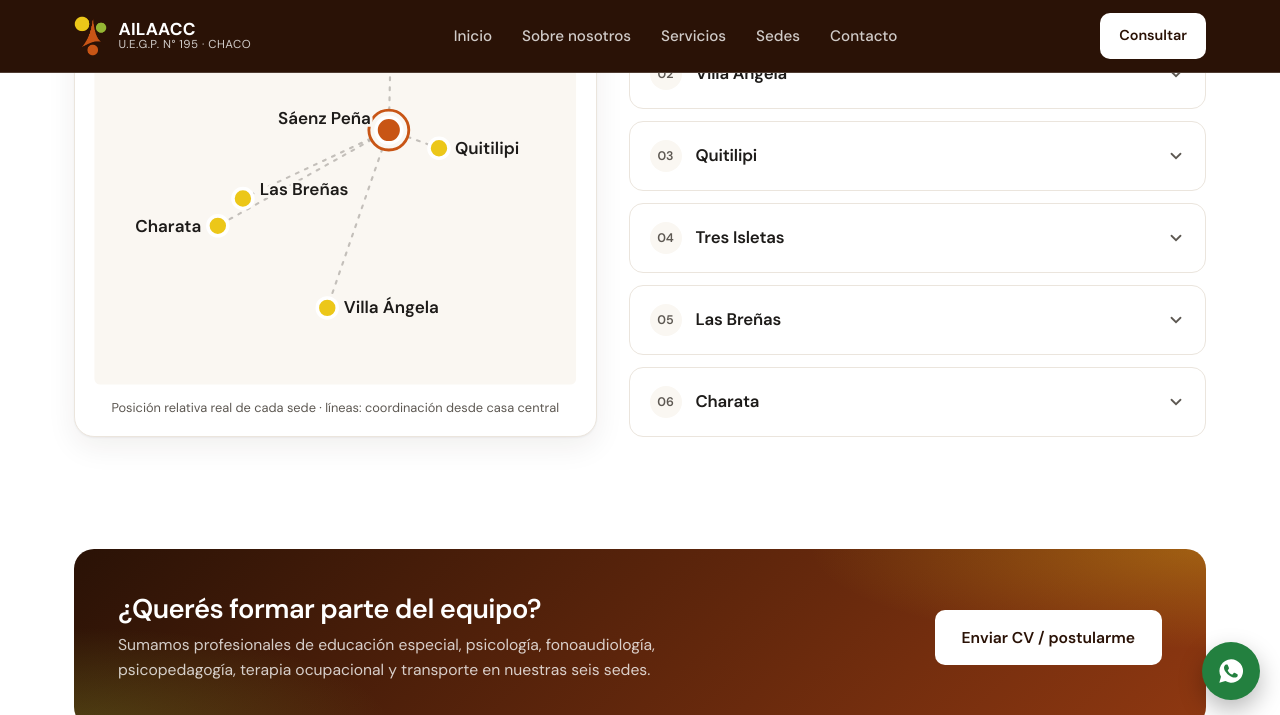
Scenario: landing › "Consultar por esta sede" y "Enviar CV" preseleccionan el formulario
The width and height of the screenshot is (1280, 715).
(page scrolled)
Click the button "06 Charata" at (666, 402), box [630,368,1205,436]
(page scrolled)
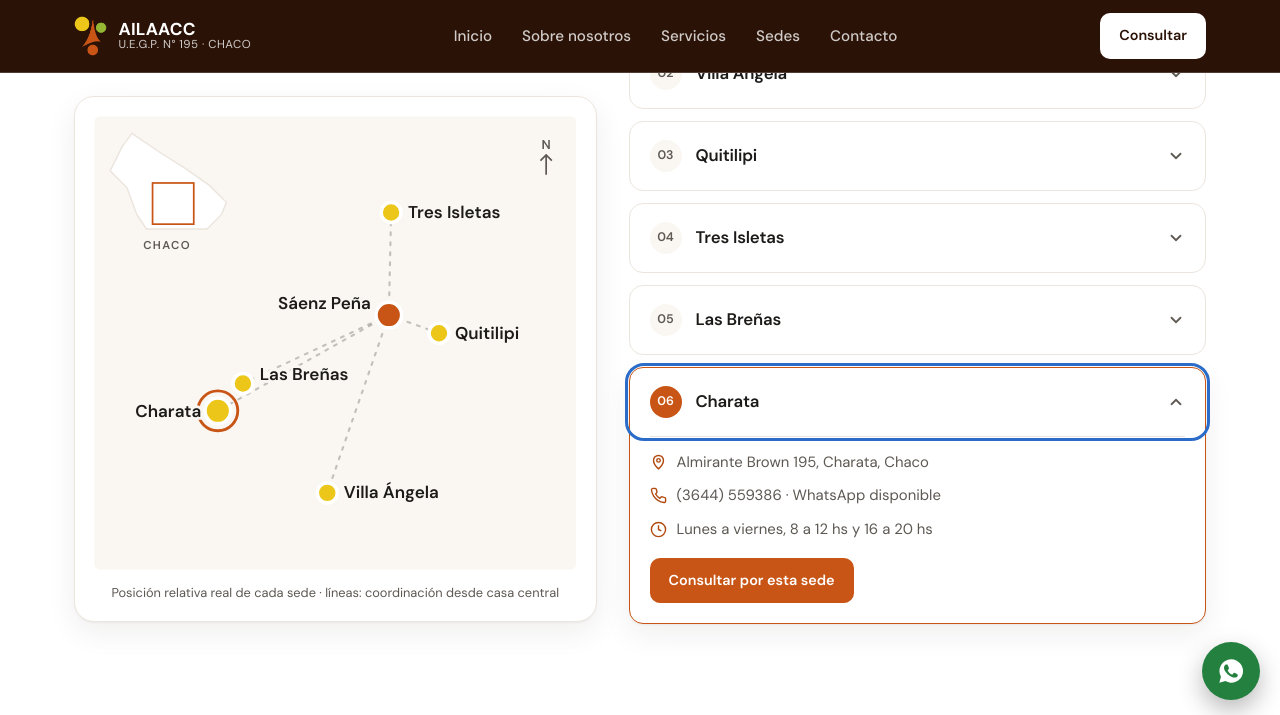
Click the link "Consultar por esta sede" at (752, 580), box [650,558,854,603]
(page scrolled)
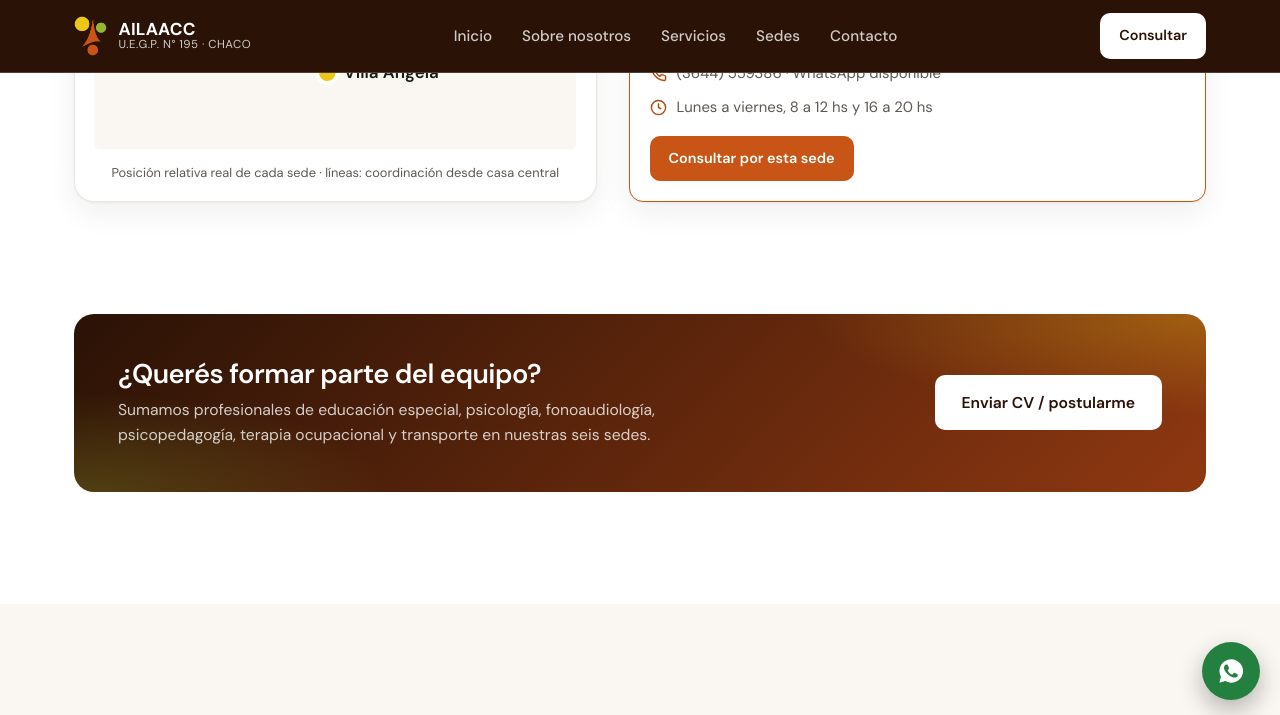
Click the link "Enviar CV / postularme" at (1048, 403), box [935,375,1162,430]
(page scrolled)
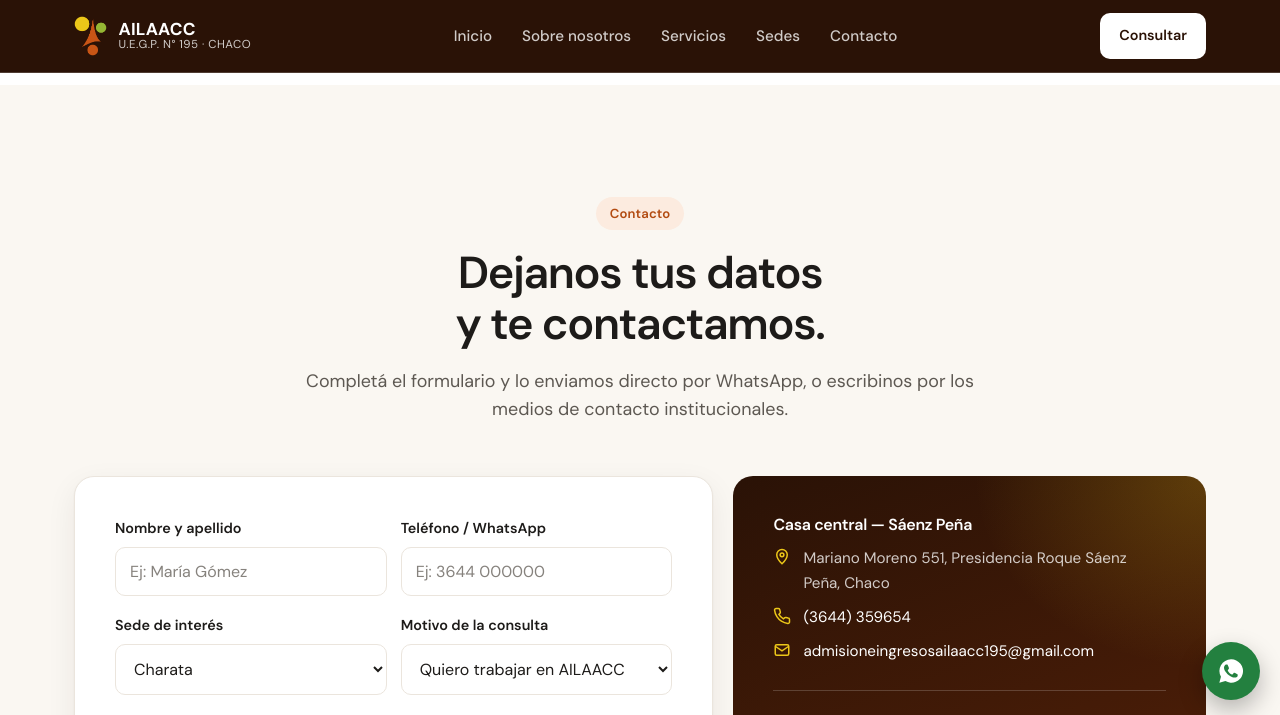
Expected: the dropdown labelled "Motivo de la consulta" shows "Quiero trabajar en AILAACC", [401,644,672,695]
